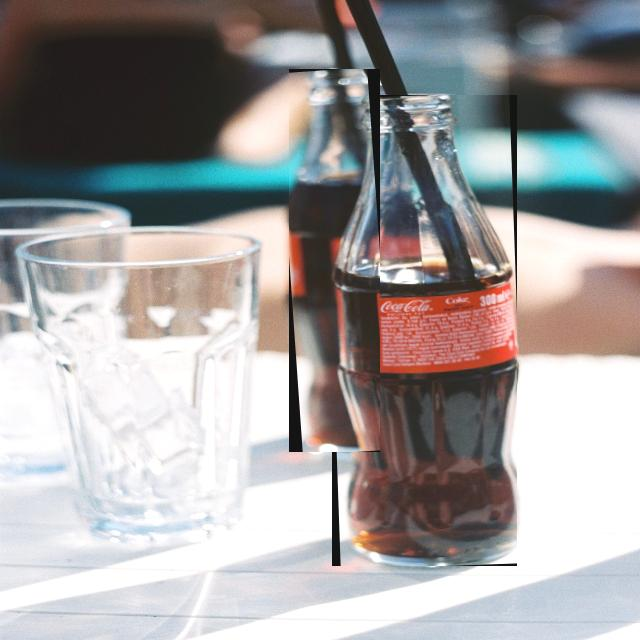Bottle: (332, 96, 517, 566), (289, 69, 379, 452)
